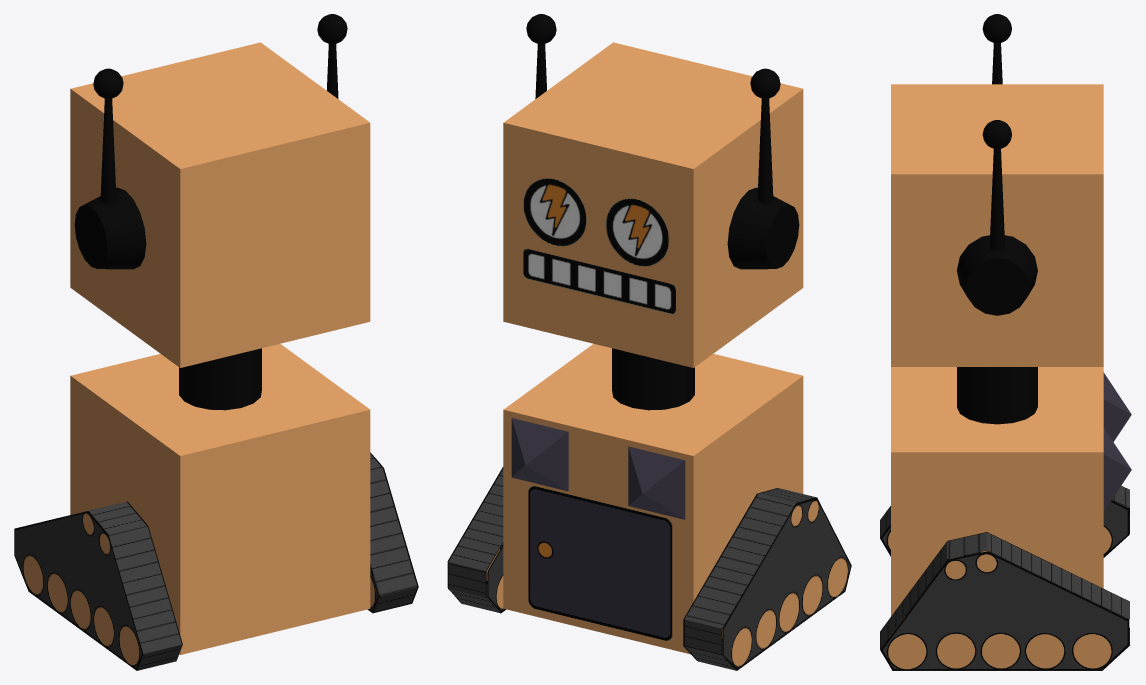
File: end.FBX
3 renders of one model, left to right at view 1: azimuth 30°, elevation 25°; view 2: azimuth 150°, elevation 25°; view 3: azimuth 270°, elevation 25°, orthographic. The views are drawn at different scales.
Parts seen in each view (by area): view 1: FEM; view 2: FEM; view 3: FEM.
Boxes of the visible parts, bbox=[...] form: FEM: bbox=[14, 14, 418, 670]; FEM: bbox=[447, 14, 851, 670]; FEM: bbox=[880, 14, 1131, 670].
Bounding box in the file's own units: 1.45 × 2.79 × 1.18.
Materials: 4 (3 with a texture image).
